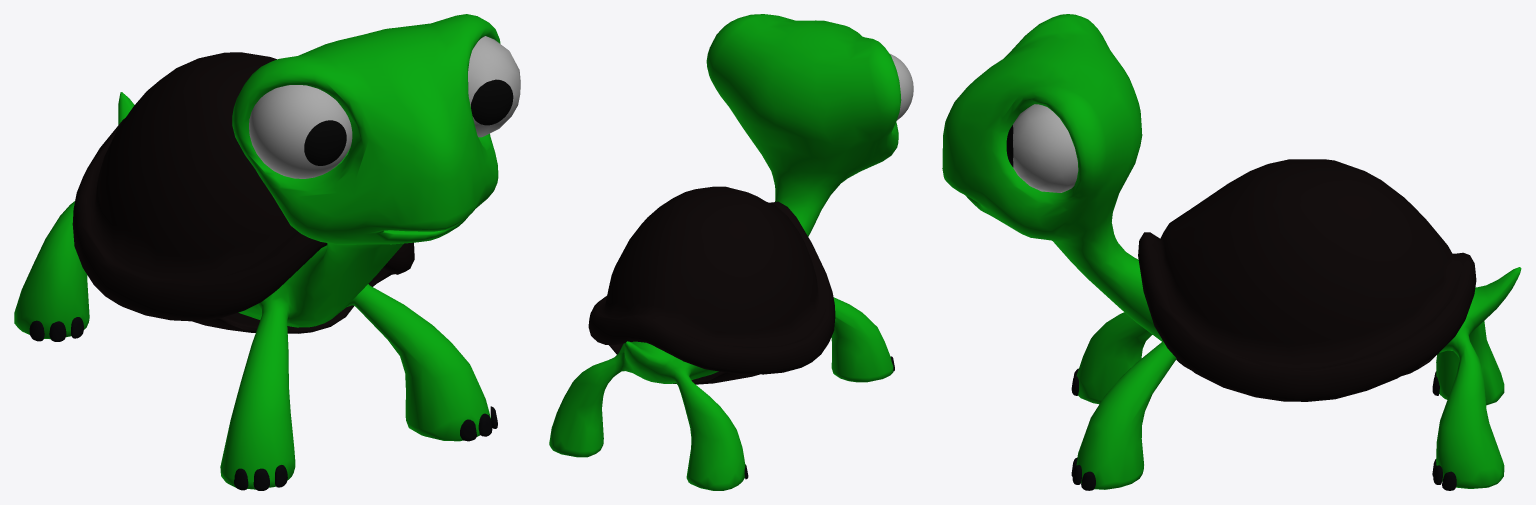
The model's file is turtle.obj.
The picture shows the model from 3 angles, left to right: view 1: azimuth 30°, elevation 25°; view 2: azimuth 150°, elevation 25°; view 3: azimuth 270°, elevation 25°; orthographic projection. The views are drawn at different scales.
Visible parts, largest first — view 1: Malla_Torutga, Caparazon, Object001, Object002, Malla_Torutga002, Object001.001, Object002.001; view 2: Malla_Torutga, Caparazon, Object001; view 3: Caparazon, Malla_Torutga, Object002, Malla_Torutga002.
Part boxes in pixels (x1=…): Malla_Torutga: x1=14, y1=14, x2=500, y2=489; Caparazon: x1=72, y1=52, x2=414, y2=333; Object001: x1=249, y1=85, x2=352, y2=178; Object002: x1=468, y1=36, x2=520, y2=137; Malla_Torutga002: x1=29, y1=317, x2=497, y2=490; Object001.001: x1=304, y1=120, x2=346, y2=165; Object002.001: x1=471, y1=79, x2=513, y2=125; Malla_Torutga: x1=549, y1=14, x2=901, y2=490; Caparazon: x1=588, y1=186, x2=835, y2=384; Object001: x1=889, y1=53, x2=913, y2=120; Caparazon: x1=1138, y1=159, x2=1476, y2=401; Malla_Torutga: x1=942, y1=14, x2=1521, y2=489; Object002: x1=1013, y1=104, x2=1078, y2=192; Malla_Torutga002: x1=1071, y1=368, x2=1456, y2=490.
Size of the model in its own units: 73.68 by 107 by 147.
